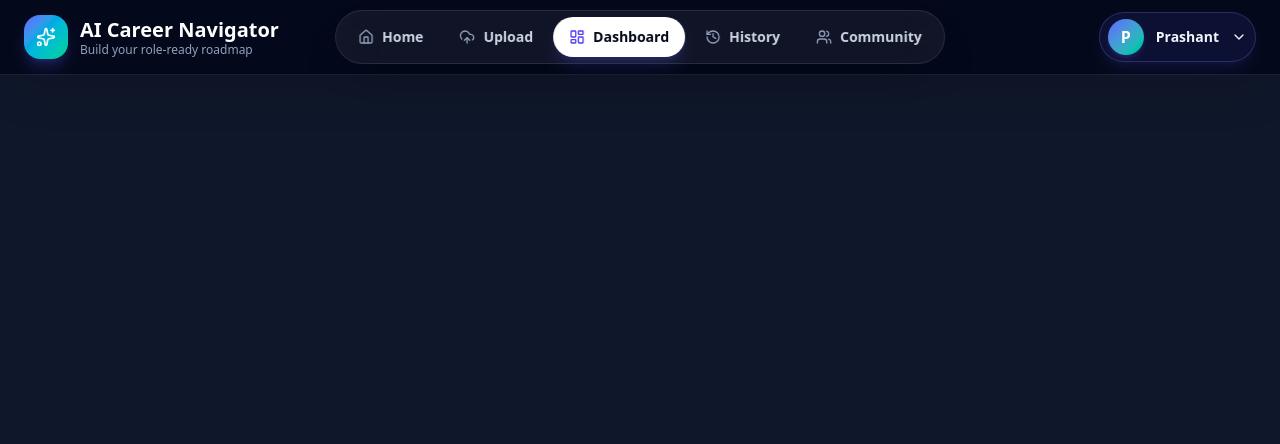
Scenario: Navbar › keeps profile links inside the signed-in user menu
Check: the link "View Profile" is not shown
Check: the link "Resume Profiles" is not shown
Step 1. Click the button with aria-label "Open user menu for Prashant Bansal" → (1177, 37), box x1=1099 y1=12 x2=1256 y2=62
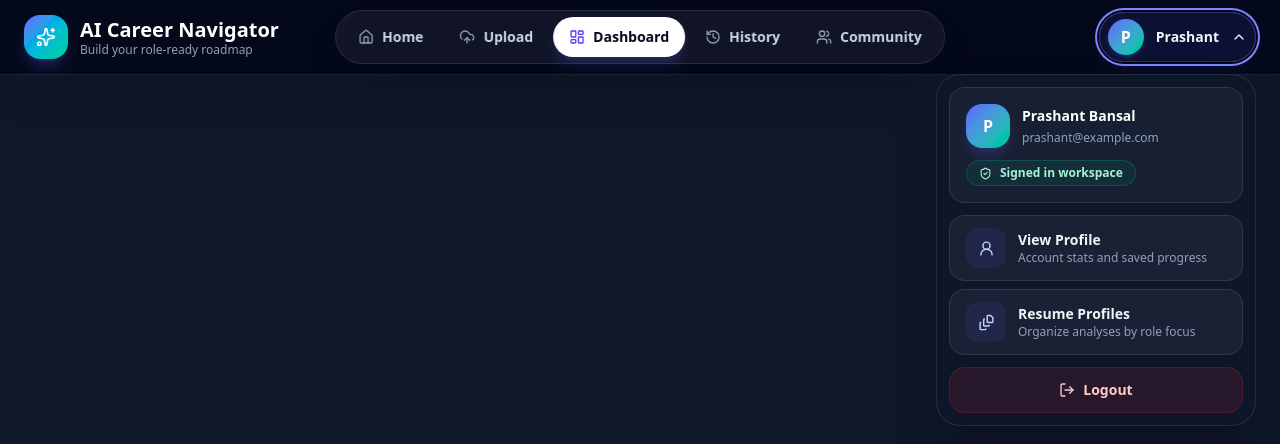
Check: the menu item "View Profile Account stats and saved progress" is shown, box x1=949 y1=215 x2=1243 y2=281
Check: the menu item "Resume Profiles Organize analyses by role focus" is shown, box x1=949 y1=289 x2=1243 y2=355
Check: the text "Signed in workspace" is shown, box x1=966 y1=160 x2=1136 y2=186
